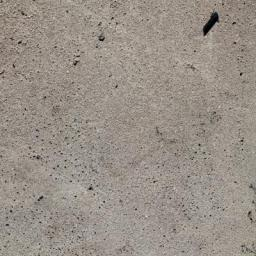FOD: (199, 6, 223, 44)
